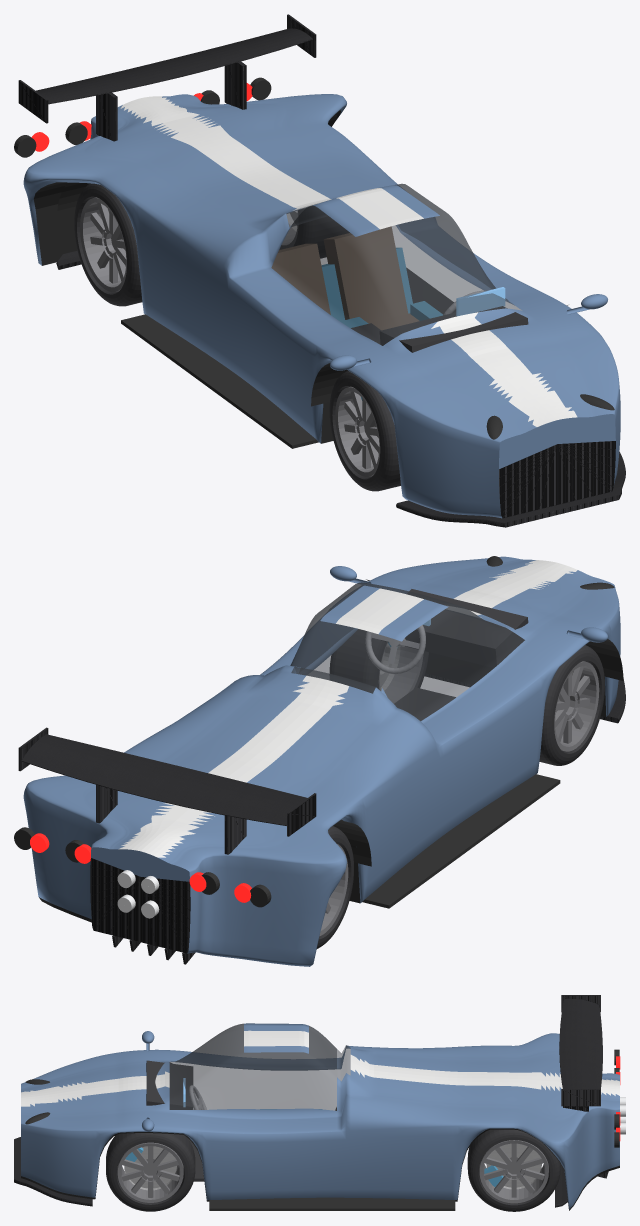
The model's file is pagani-huayra-bc.glb.
3 views of the same model, one above another, from view 1: azimuth 30°, elevation 25°; view 2: azimuth 150°, elevation 25°; view 3: azimuth 270°, elevation 25° (orthographic). The views are drawn at different scales.
Visible parts, largest first — view 1: Body_PrimaryPaint, Glass_Windows, Carbon_Exterior, Body_SecondaryPaint, Interior_Seats, WheelWells, Tire_FR, Rim_RR, Rim_FR, Underbody, Tire_RR, Lights_Housings (+4 smaller); view 2: Body_PrimaryPaint, Carbon_Exterior, Glass_Windows, Body_SecondaryPaint, WheelWells, Interior_Dashboard, Rim_FR, Tire_FR, Tire_FL, Underbody, Lights_Housings, Interior_SteeringWheel (+6 smaller); view 3: Body_PrimaryPaint, Glass_Windows, Body_SecondaryPaint, Carbon_Exterior, WheelWells, Tire_FL, Rim_RL, Tire_RL, Rim_FL, Interior_Dashboard, Underbody, BrakeDisc_RL (+2 smaller).
Part boxes in pixels (x1,y1,x2,y2): Body_PrimaryPaint: (23, 94, 620, 518); Glass_Windows: (271, 183, 521, 345); Carbon_Exterior: (18, 14, 625, 527); Body_SecondaryPaint: (120, 96, 577, 426); Interior_Seats: (271, 226, 418, 330); WheelWells: (57, 182, 567, 448); Tire_FR: (329, 370, 400, 491); Rim_RR: (80, 197, 126, 292); Rim_FR: (335, 386, 380, 476); Underbody: (33, 110, 340, 443); Tire_RR: (74, 183, 142, 306); Lights_Housings: (14, 77, 614, 439); Body_PrimaryPaint: (23, 556, 620, 966); Carbon_Exterior: (18, 673, 625, 964); Glass_Windows: (290, 582, 524, 720); Body_SecondaryPaint: (118, 560, 577, 857); WheelWells: (333, 579, 623, 908); Interior_Dashboard: (381, 589, 528, 667); Rim_FR: (554, 661, 599, 751); Tire_FR: (539, 645, 604, 765); Tire_FL: (329, 629, 428, 689); Underbody: (39, 652, 606, 922); Lights_Housings: (14, 556, 614, 907); Interior_SteeringWheel: (365, 625, 425, 674); Body_PrimaryPaint: (21, 1023, 619, 1209); Glass_Windows: (169, 1023, 350, 1110); Body_SecondaryPaint: (21, 1030, 619, 1106); Carbon_Exterior: (14, 995, 608, 1207); WheelWells: (209, 1197, 455, 1210); Tire_FL: (106, 1133, 195, 1211); Rim_RL: (479, 1140, 548, 1203); Tire_RL: (467, 1129, 560, 1211); Rim_FL: (117, 1142, 183, 1202); Interior_Dashboard: (146, 1060, 193, 1109); Underbody: (21, 1128, 619, 1210); BrakeDisc_RL: (486, 1143, 541, 1189).
Bounding box in the file's own units: 2.04 × 1.17 × 4.71.
17 materials, 2 textured.
